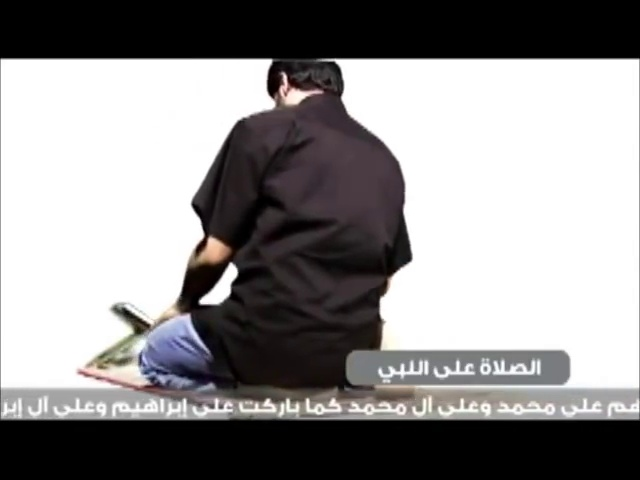sitting: (136, 60, 418, 403)
